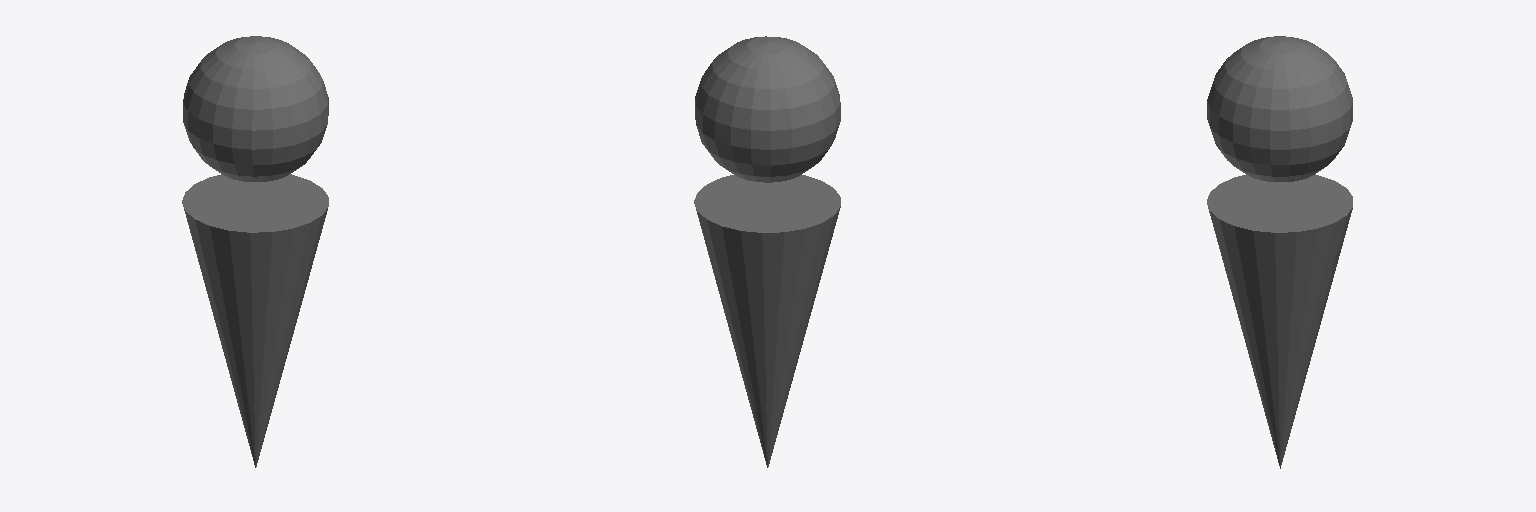
The model's file is avatar.obj.
The picture shows the model from 3 angles: view 1: azimuth 30°, elevation 25°; view 2: azimuth 150°, elevation 25°; view 3: azimuth 270°, elevation 25°; orthographic projection.
Parts seen in each view (by area): view 1: Mesh; view 2: Mesh; view 3: Mesh.
Boxes of the visible parts, x1,y1,x2,y2 form: Mesh: [182, 36, 328, 467]; Mesh: [694, 36, 840, 467]; Mesh: [1207, 36, 1352, 468].
Bounding box in the file's own units: 0.4986 × 1.59 × 0.4975.